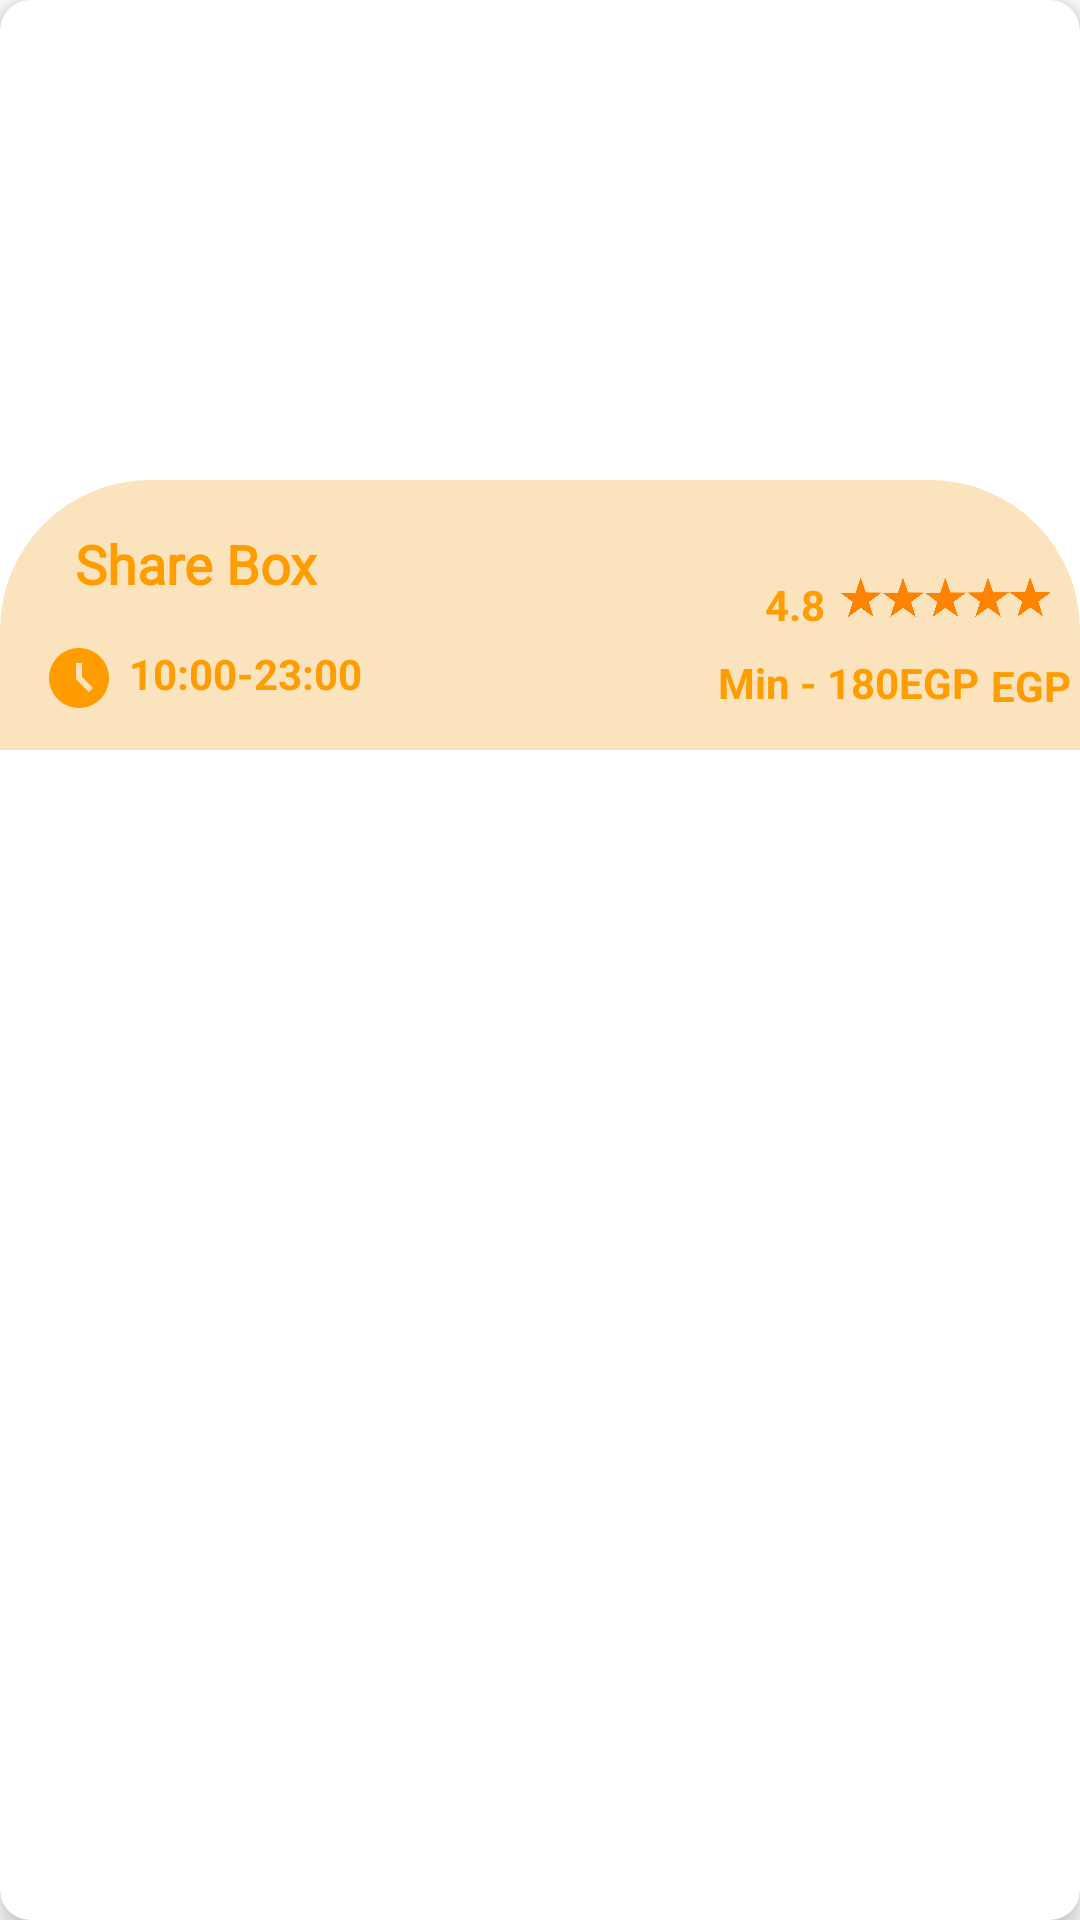

Icons on this 1080 × 1920 Android screen, each with its box as (x1, y1, x2, y2):
access time: (49, 648, 109, 708)
